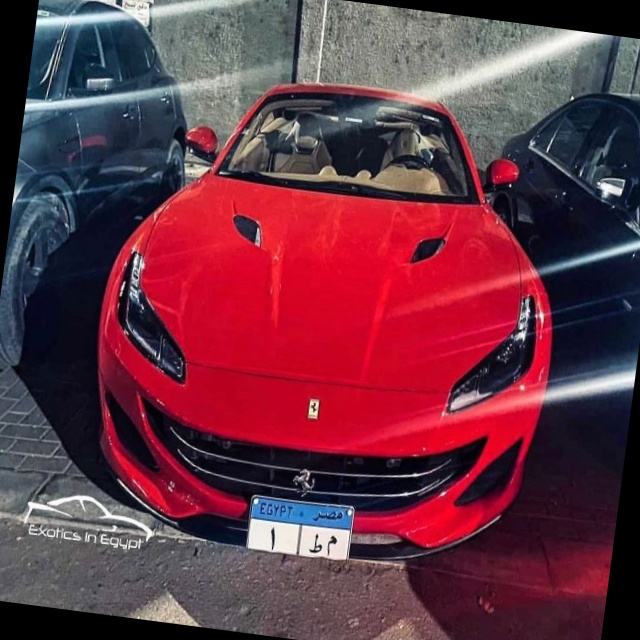License Plate: (244, 493, 355, 567)
